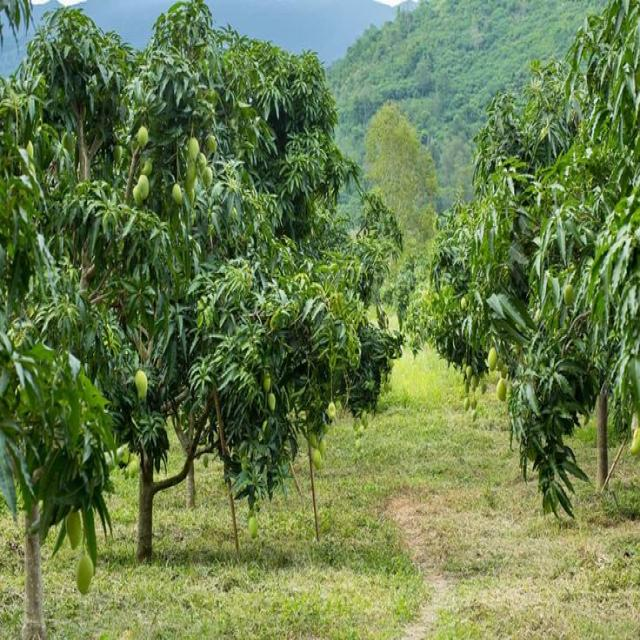Mango-Tree: (17, 25, 381, 529), (474, 50, 630, 509)
